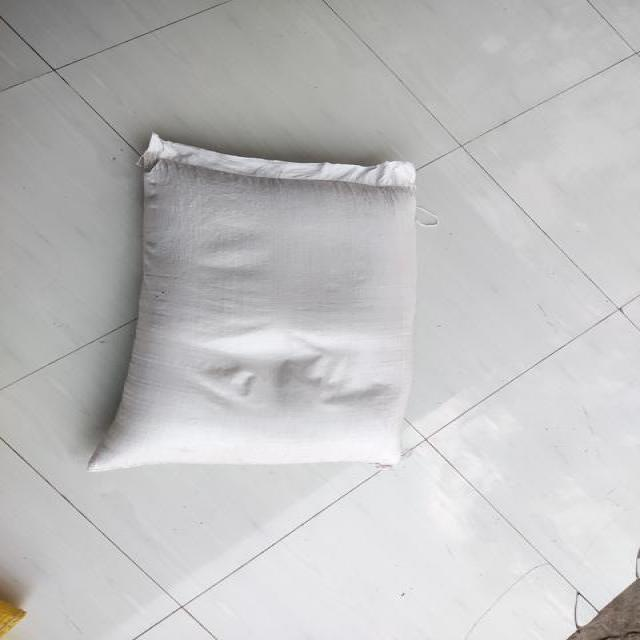gunny_bag: (89, 136, 416, 472)
